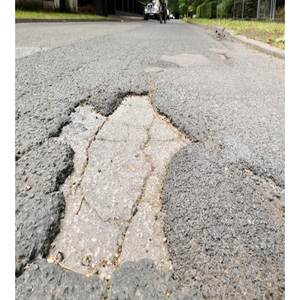pothole: (34, 88, 198, 283)
